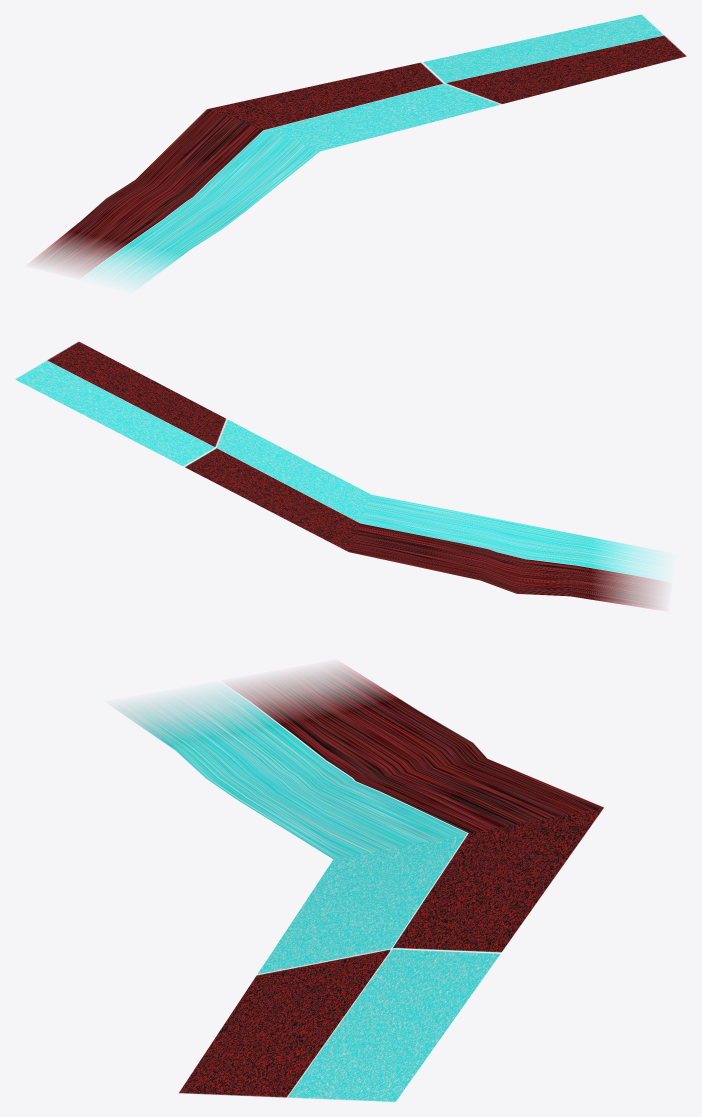
The picture shows the model from 3 angles, top to bottom: view 1: azimuth 30°, elevation 25°; view 2: azimuth 150°, elevation 25°; view 3: azimuth 270°, elevation 25°; orthographic projection. The views are drawn at different scales.
Visible parts, largest first — view 1: SM_VFX_BR_River05_LOD0; view 2: SM_VFX_BR_River05_LOD0; view 3: SM_VFX_BR_River05_LOD0.
Part boxes in pixels (<box>): SM_VFX_BR_River05_LOD0: <box>33,14,686,286</box>; SM_VFX_BR_River05_LOD0: <box>15,341,662,608</box>; SM_VFX_BR_River05_LOD0: <box>115,666,603,1101</box>.
Bounding box in the file's own units: 52.04 × 7.73 × 17.67.
1 material, 1 textured.
